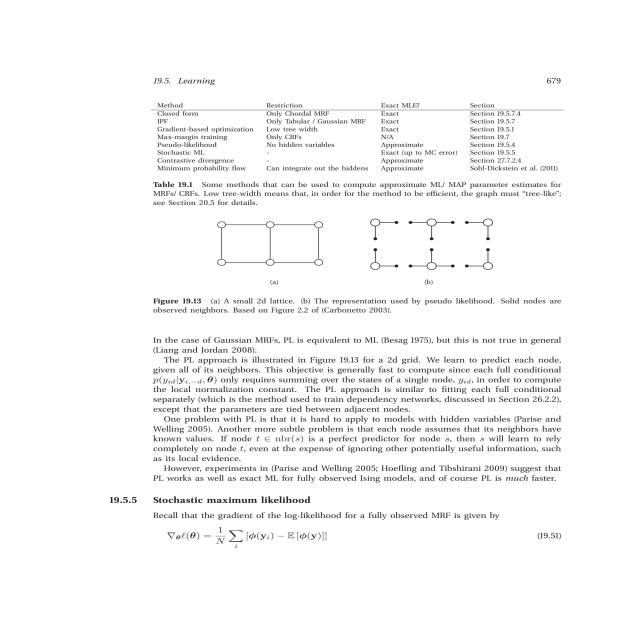diagram: (128, 208, 640, 322)
